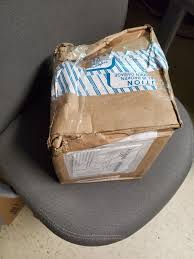damaged package: (50, 31, 154, 68), (146, 31, 175, 93), (48, 129, 93, 150)
